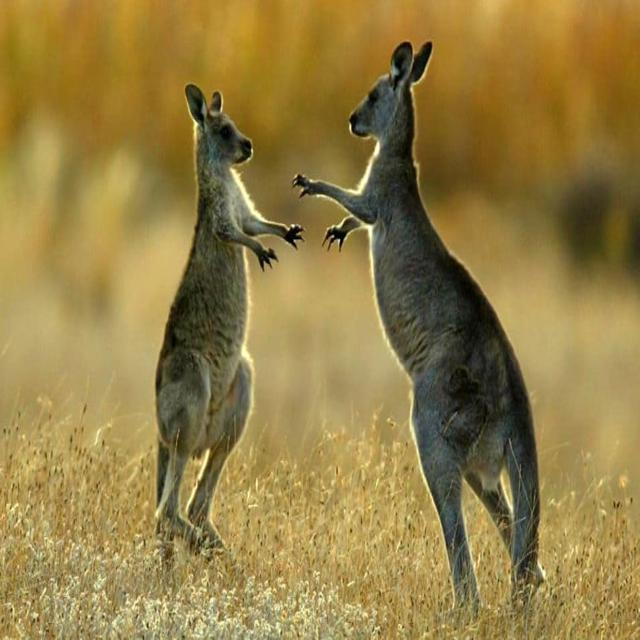kangaroo: (295, 44, 544, 599), (167, 78, 273, 553)
